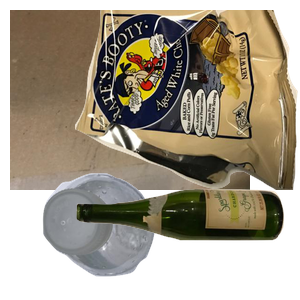cardboard: (10, 10, 250, 190)
glass: (74, 186, 300, 300)
plastic: (40, 170, 187, 300)
trash: (75, 10, 300, 190)
